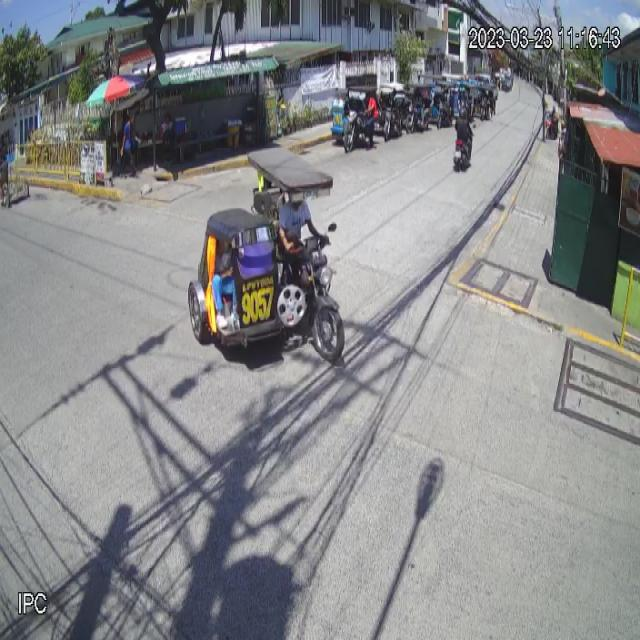Tricycle: (187, 148, 345, 367)
